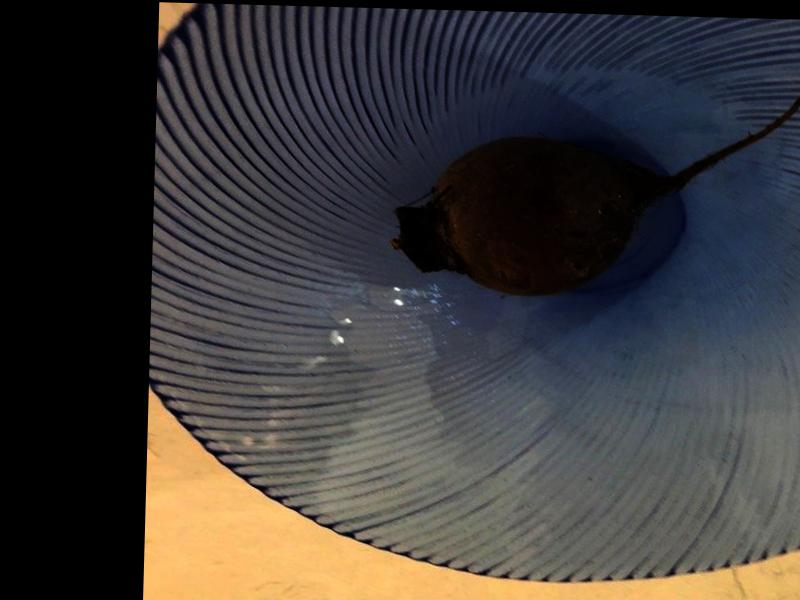Beet: (393, 81, 800, 300)
